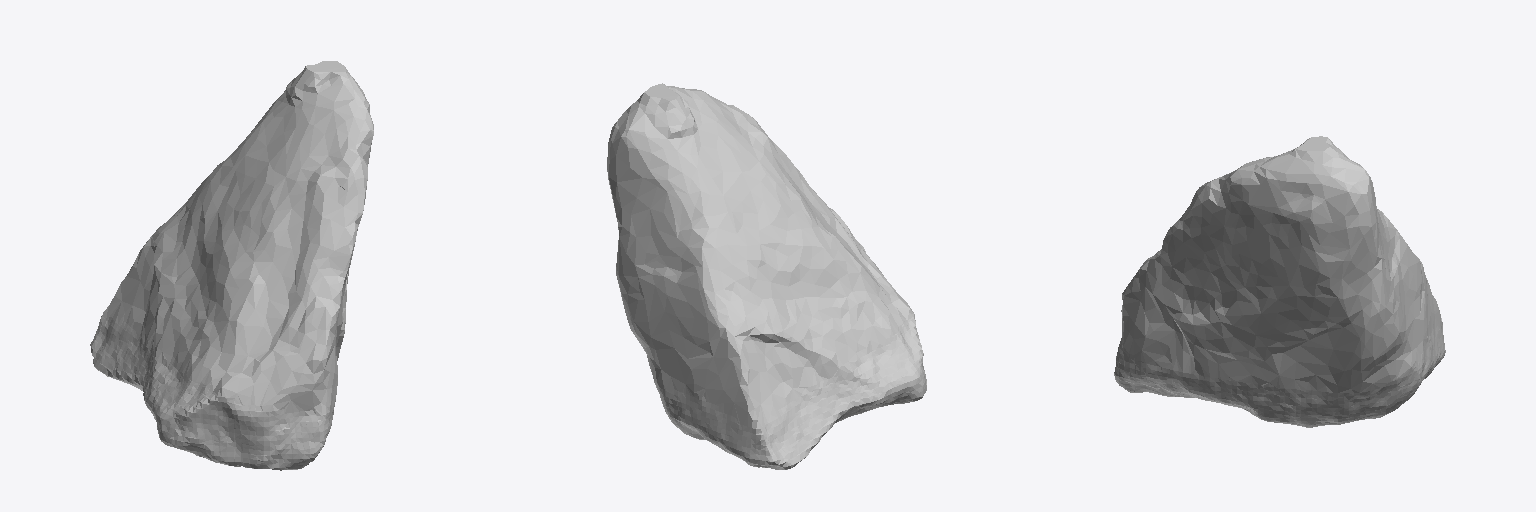
File: last.obj
3 renders of one model, left to right at view 1: azimuth 30°, elevation 25°; view 2: azimuth 150°, elevation 25°; view 3: azimuth 270°, elevation 25°, orthographic.
Parts seen in each view (by area): view 1: FinalOrientedMesh_Spec1; view 2: FinalOrientedMesh_Spec1; view 3: FinalOrientedMesh_Spec1.
Part boxes in pixels (x1,y1,x2,y2): FinalOrientedMesh_Spec1: (90, 61, 373, 470); FinalOrientedMesh_Spec1: (607, 83, 926, 469); FinalOrientedMesh_Spec1: (1114, 136, 1445, 427).
Bounding box in the file's own units: 0.6698 × 0.7902 × 0.7679.